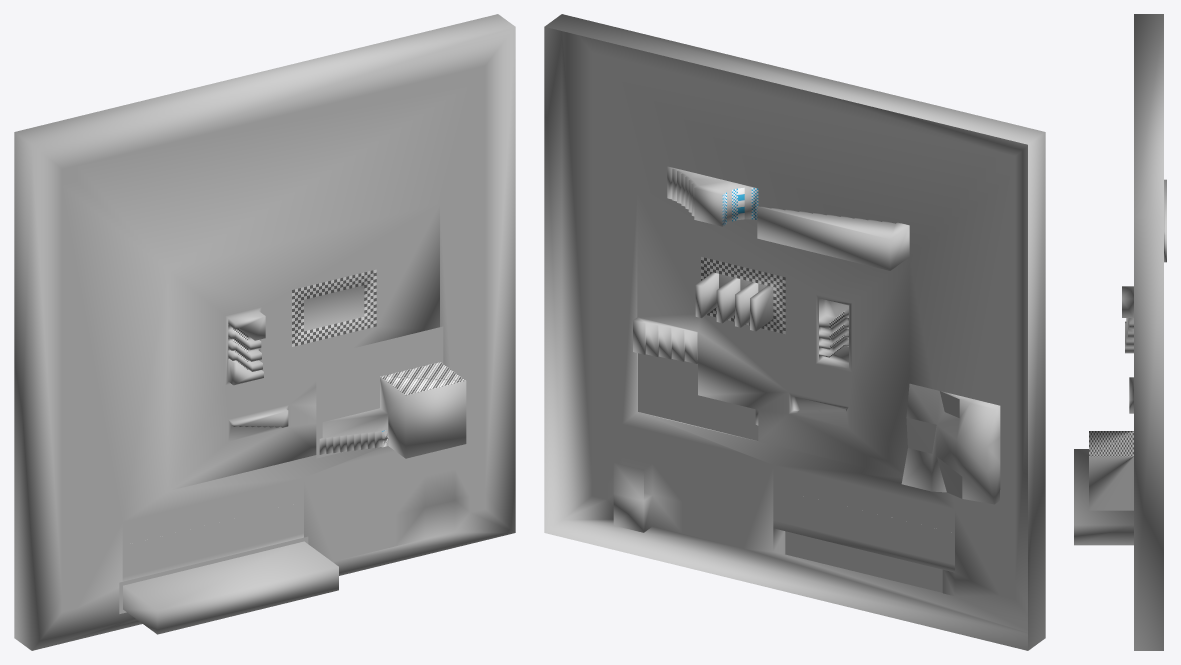
File: testmap2.dae
3 renders of one model, left to right at view 1: azimuth 30°, elevation 25°; view 2: azimuth 150°, elevation 25°; view 3: azimuth 270°, elevation 25°, orthographic. The views are drawn at different scales.
Visible parts, largest first — view 1: r0-node_r0-mesh; view 2: r0-node_r0-mesh; view 3: r0-node_r0-mesh.
Part boxes in pixels (x1,y1,x2,y2): r0-node_r0-mesh: (14,14,515,650); r0-node_r0-mesh: (544,14,1045,650); r0-node_r0-mesh: (1074,14,1166,650).
Bounding box in the file's own units: 16 × 3.1 × 16.
